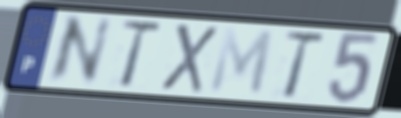5: (325, 31, 381, 109)
M: (206, 25, 276, 99)
N: (43, 14, 116, 87)
T: (117, 19, 164, 91), (281, 30, 328, 102)
X: (158, 21, 220, 96)
